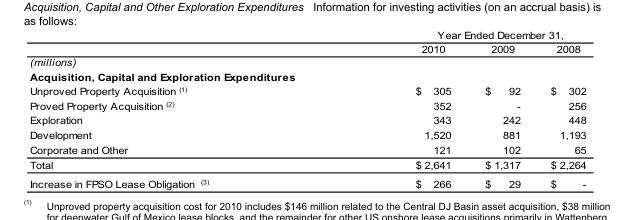table: (29, 28, 585, 189)
table column: (29, 28, 311, 189), (311, 28, 467, 189), (467, 28, 534, 189), (534, 28, 585, 189)
table column header: (29, 28, 585, 55)
table projected row header: (29, 55, 585, 69), (29, 69, 585, 83)
table row: (29, 156, 585, 173), (29, 173, 585, 189), (29, 97, 585, 112), (29, 112, 585, 127), (29, 127, 585, 142), (29, 41, 585, 55), (29, 55, 585, 69), (29, 69, 585, 83), (29, 83, 585, 97), (29, 142, 585, 156), (29, 28, 585, 41)
table spanning cell: (311, 28, 585, 41)
